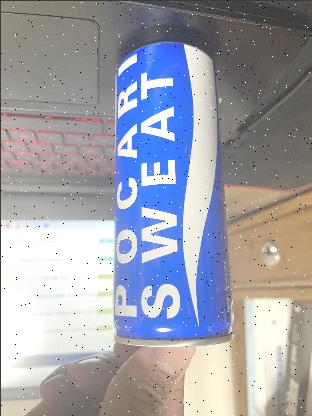Can: (106, 41, 229, 344)
